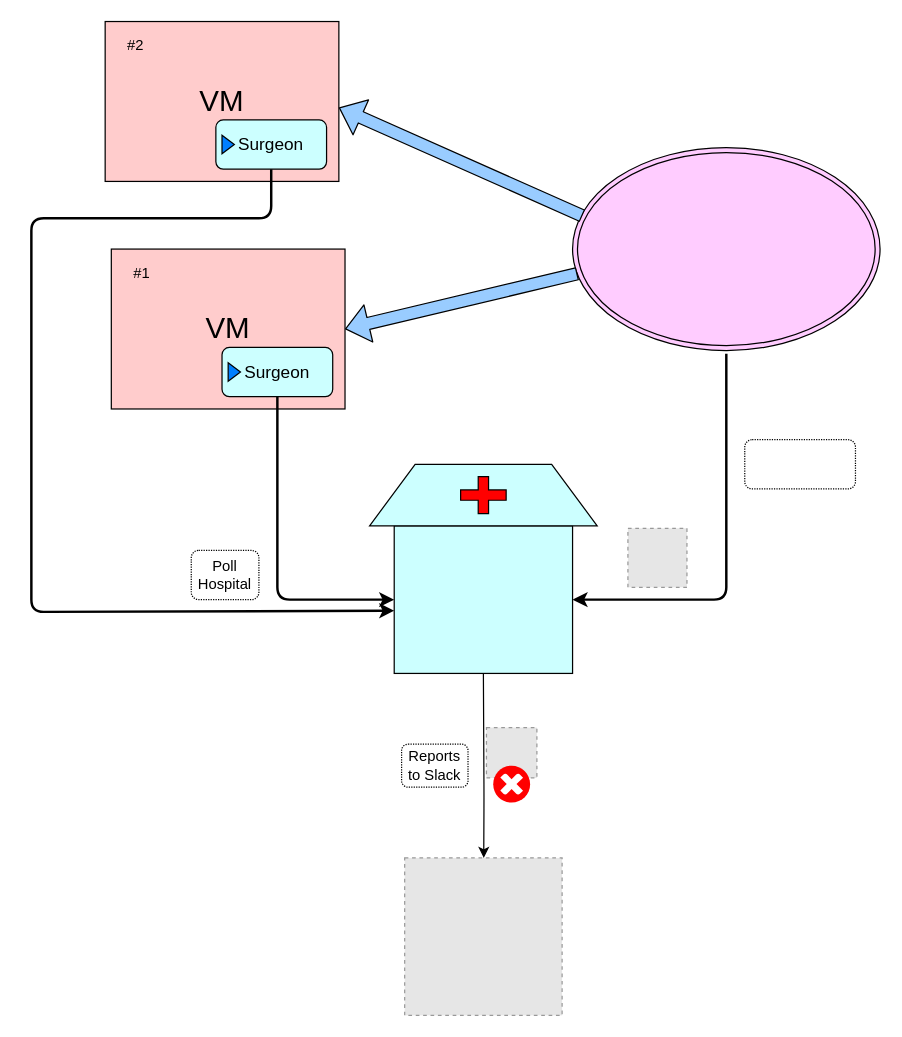
The diagram is 902 pixels wide and 1037 high, and some of its shapes have lost their labels. Grey dashed boxes stand in for pictures. The box of each missing label's shape, as (x1, y1, x2, y2) in pixels:
Hospital: (393, 525, 573, 673)
Monitoring System: (571, 146, 880, 351)
Sends Alert to Hospital: (744, 438, 855, 489)
